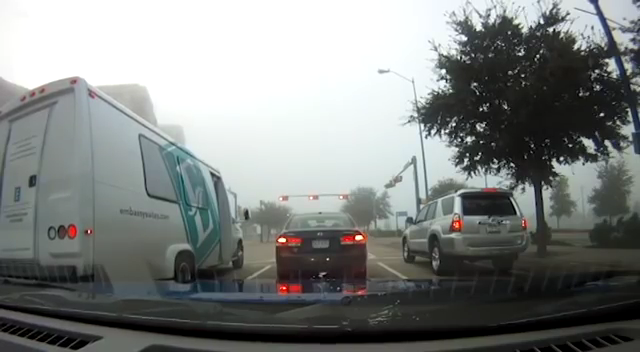car: (1, 75, 254, 294), (401, 187, 529, 274), (273, 211, 369, 285)
